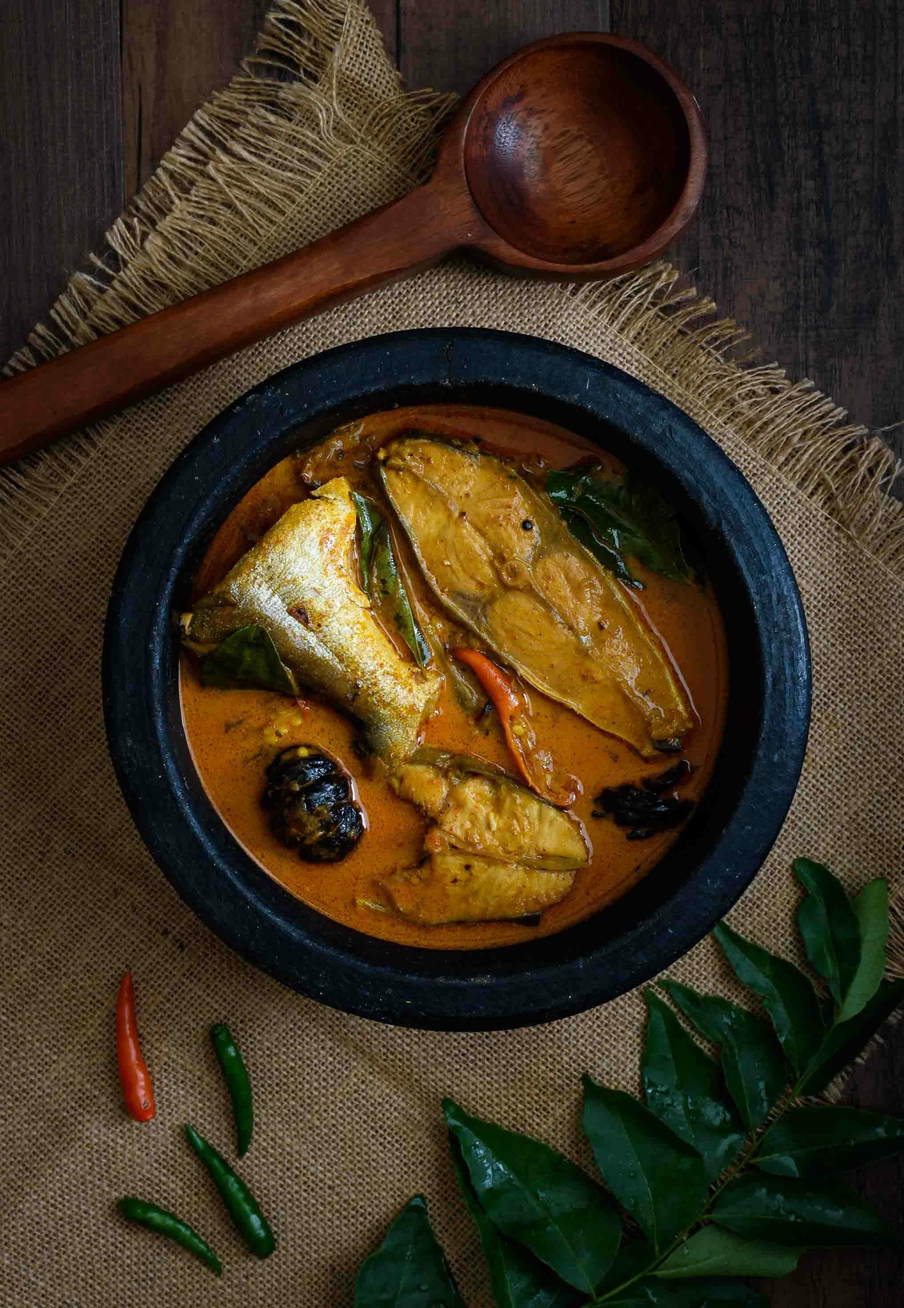FishCurry: (183, 404, 731, 950)
